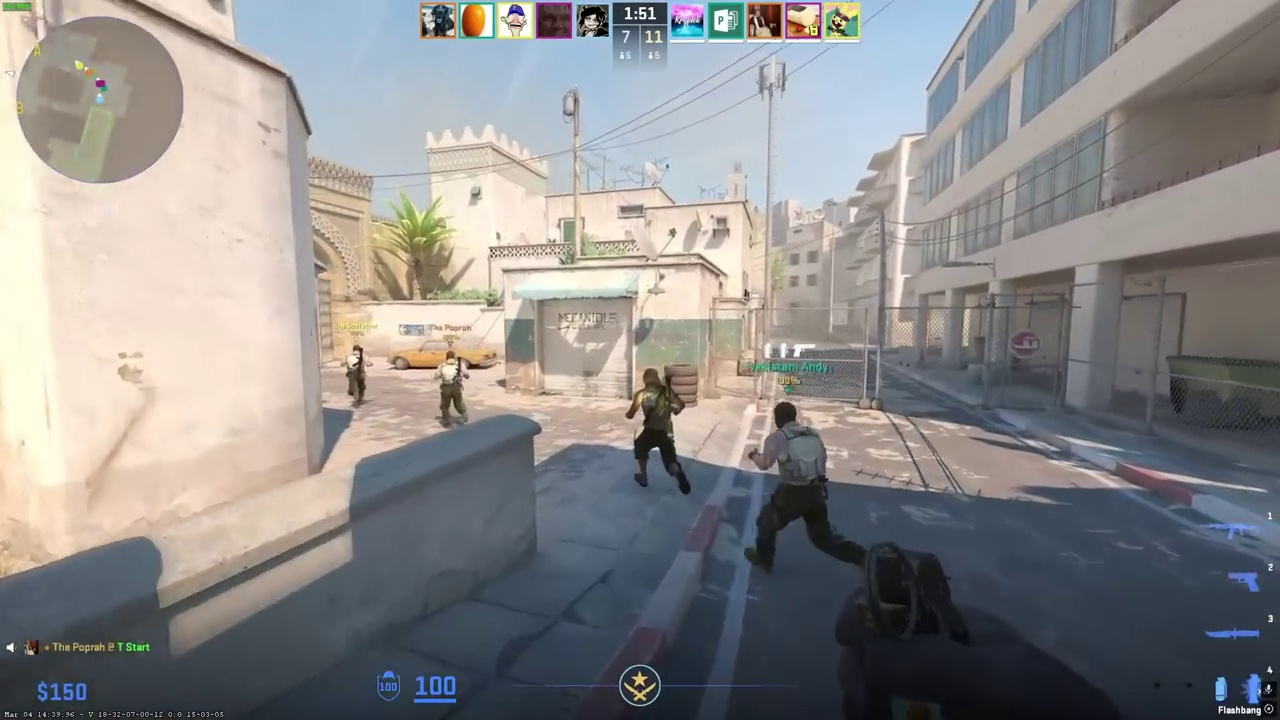Terrorist: (746, 401, 830, 576), (629, 368, 686, 495), (435, 350, 469, 428), (345, 344, 369, 405)
